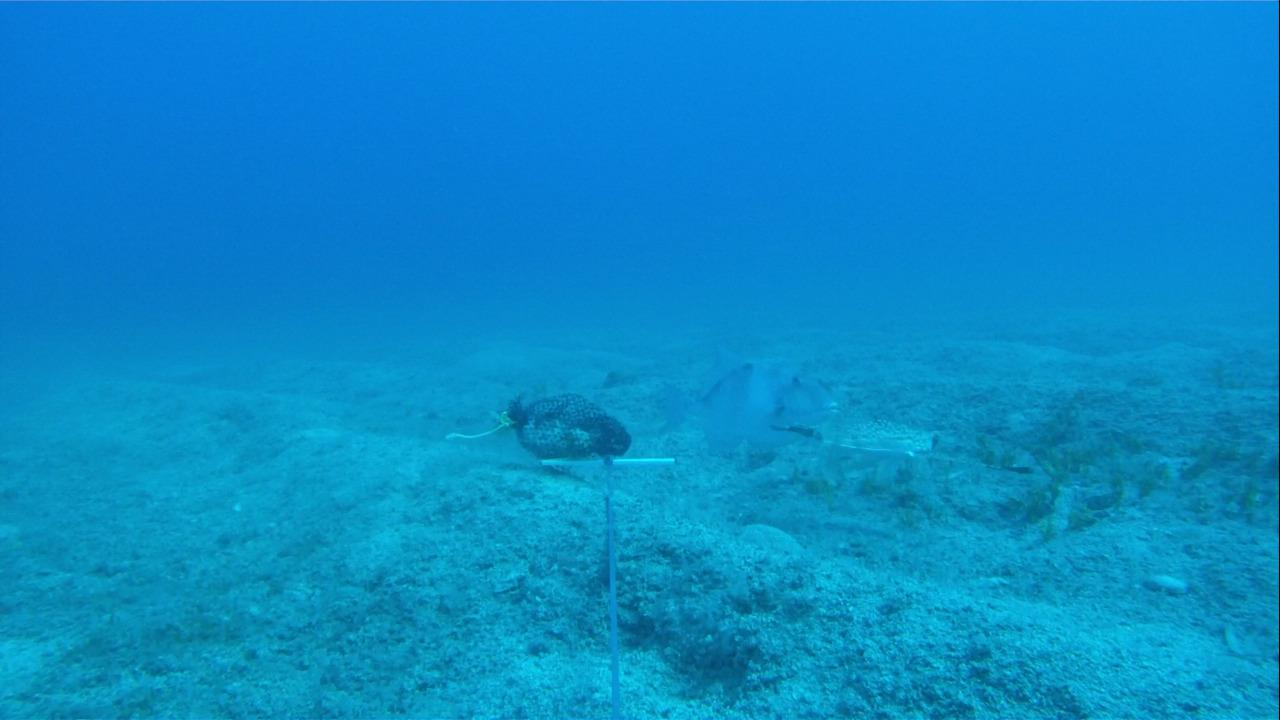balistes: (642, 355, 840, 466)
dactylopterus: (752, 411, 1045, 487)
